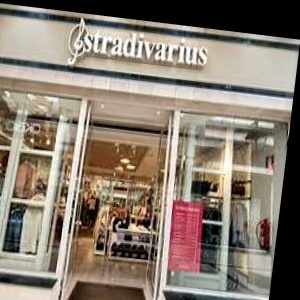stradivarius: (171, 25, 260, 38)
